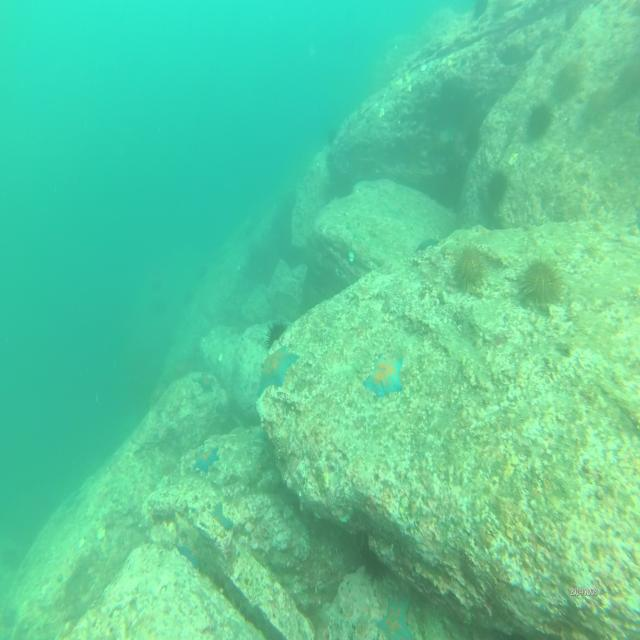echinus: (520, 254, 564, 308), (612, 56, 640, 108), (454, 244, 483, 290), (558, 54, 584, 101), (260, 318, 292, 351), (528, 101, 552, 144), (586, 82, 610, 121), (490, 168, 510, 204)
starfish: (255, 344, 299, 396), (363, 351, 406, 401), (375, 590, 417, 640), (204, 501, 234, 548), (192, 446, 221, 475), (179, 537, 201, 573)
